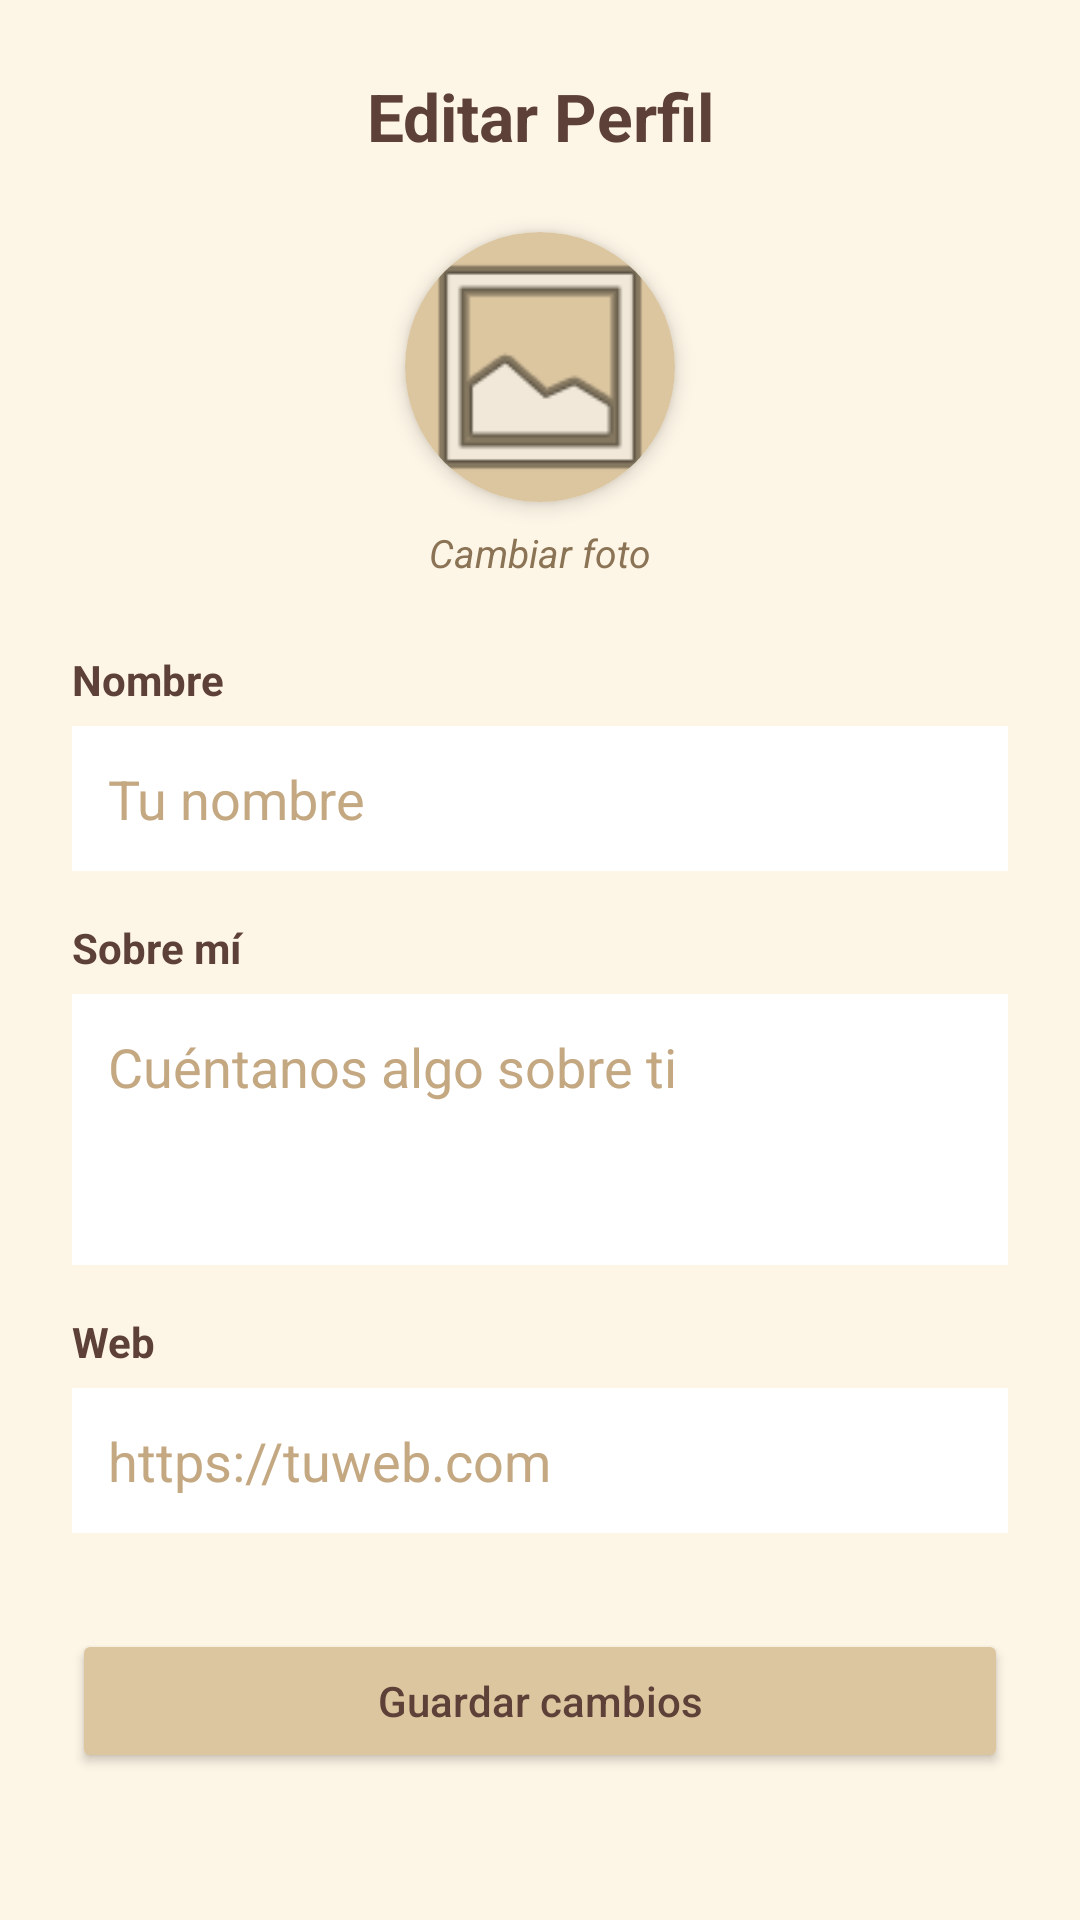

Icons on this 1080w x 1920h Android screen, each with its box as (x1, y1, x2, y2):
gallery: (405, 232, 675, 502)
